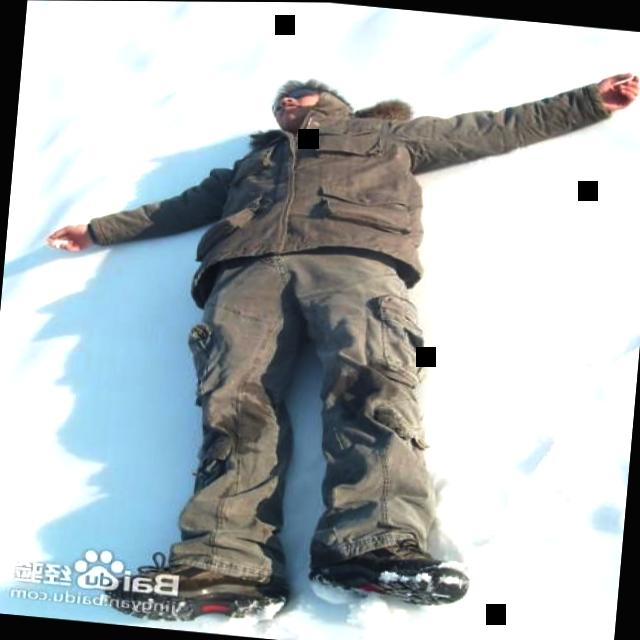Fall-Detected: (14, 0, 616, 640)
